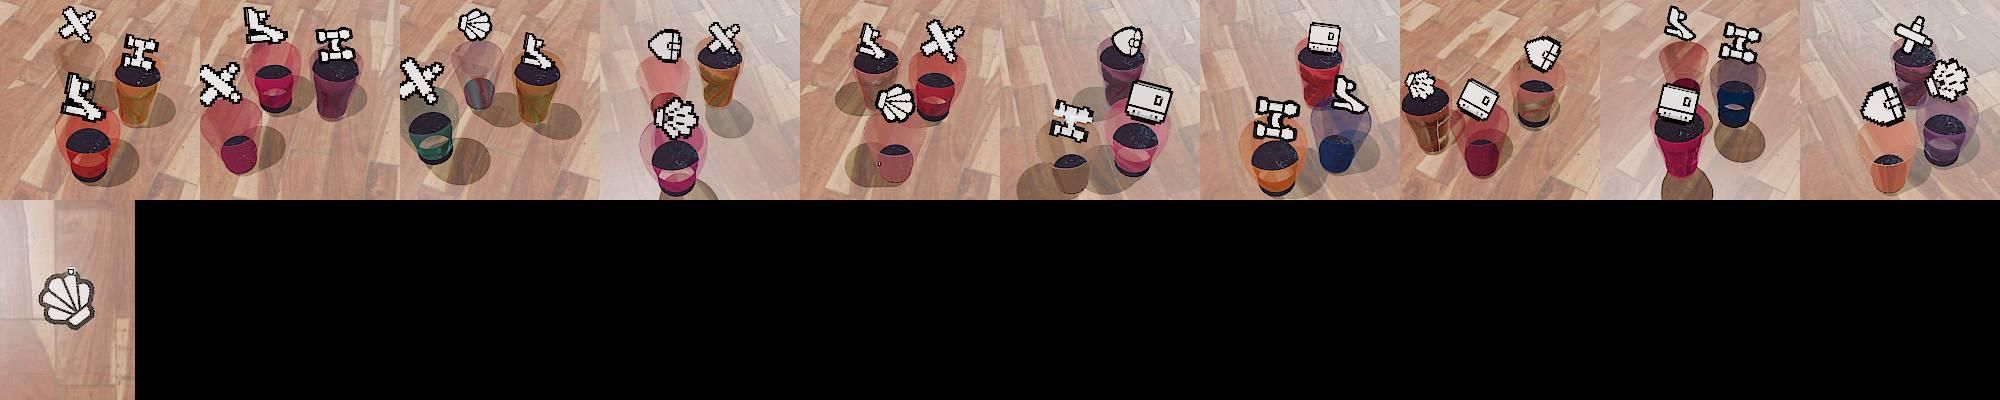icon: (37, 268, 97, 329), (1857, 82, 1909, 130), (1122, 76, 1173, 125), (399, 56, 446, 106), (1656, 82, 1704, 127), (652, 94, 700, 140), (198, 61, 244, 110), (61, 71, 105, 122), (1251, 96, 1297, 143), (1050, 97, 1096, 143), (1455, 78, 1501, 122), (242, 5, 291, 47), (1717, 20, 1761, 64), (1926, 59, 1971, 102), (920, 18, 962, 61), (1330, 73, 1369, 115), (1523, 34, 1562, 73), (876, 84, 916, 122), (57, 6, 97, 45), (315, 27, 356, 64), (121, 33, 159, 70), (648, 27, 684, 64), (707, 22, 744, 57), (1306, 22, 1342, 57), (1663, 4, 1696, 42), (1894, 18, 1930, 52), (856, 22, 888, 60), (520, 31, 552, 69), (458, 8, 492, 42), (1403, 68, 1439, 101), (1114, 25, 1144, 59)
